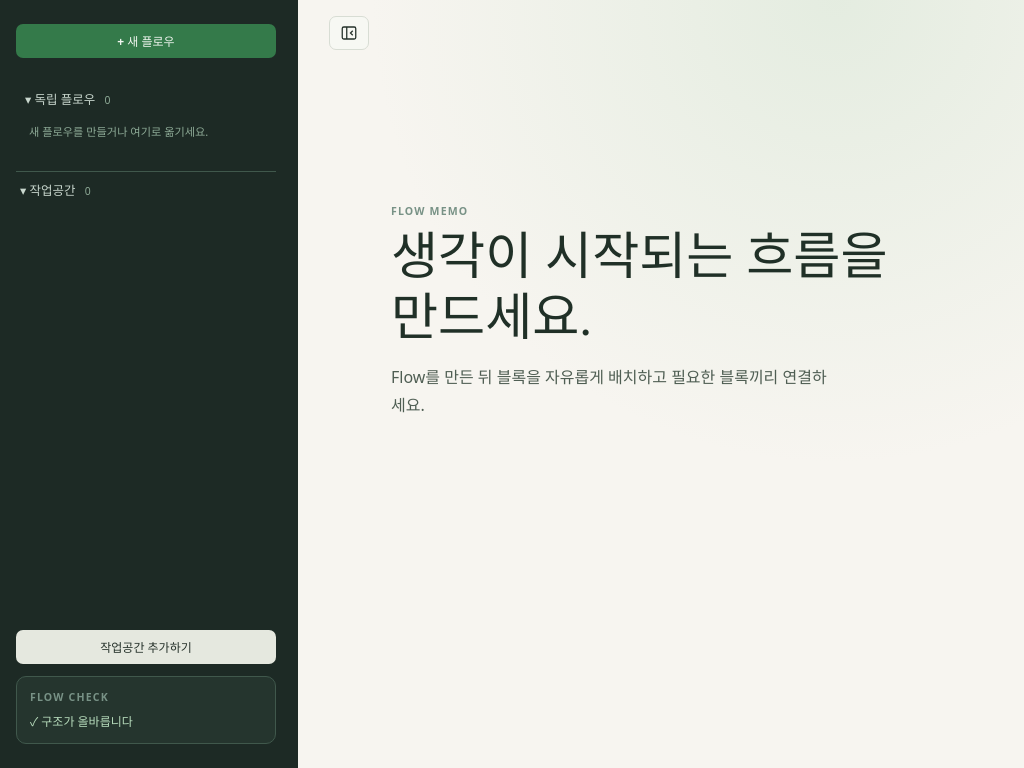
Test case: offers recent workspaces before the folder dialog and records a selected existing workspace
Click the button with class "workspace-add-button".
click(146, 647)  # box [16,630,276,664]
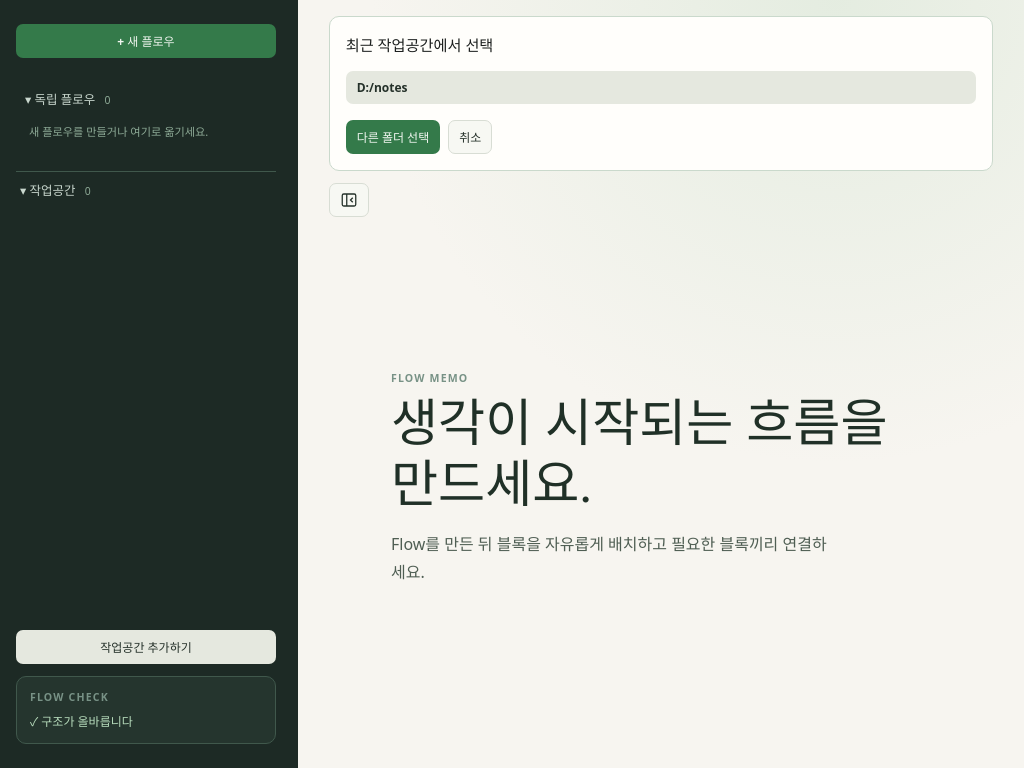
Click the button "D:/notes".
click(382, 88)  # box [346,71,976,104]
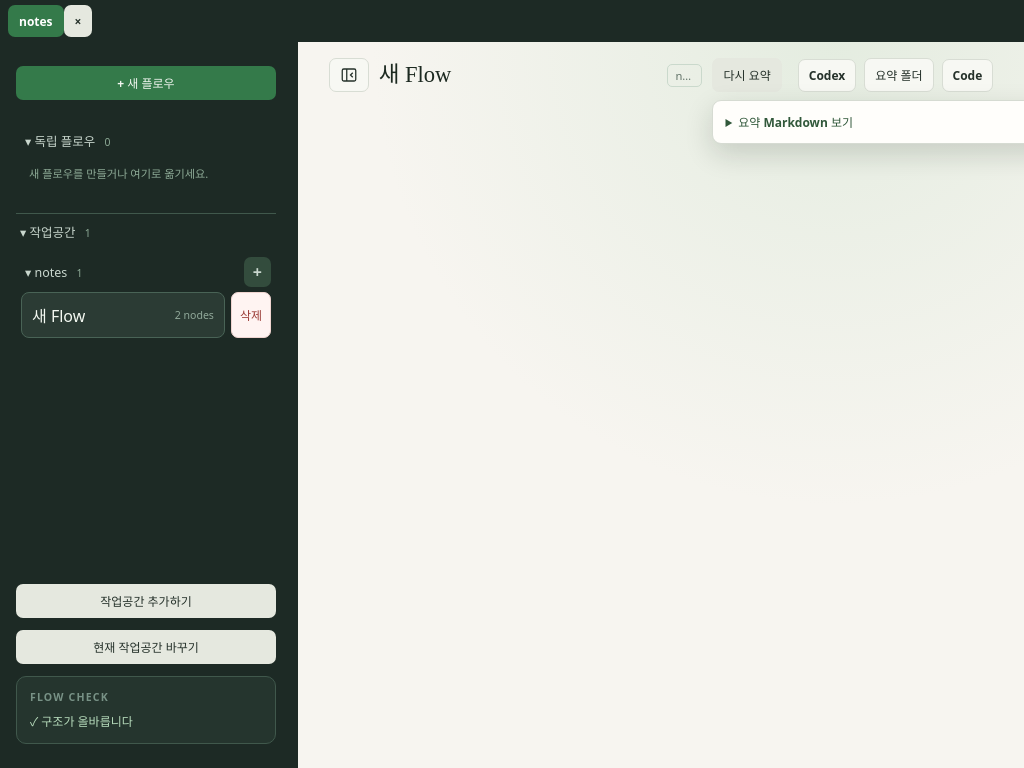
Click the button "작업공간 추가하기".
click(146, 601)  # box [16,584,276,618]
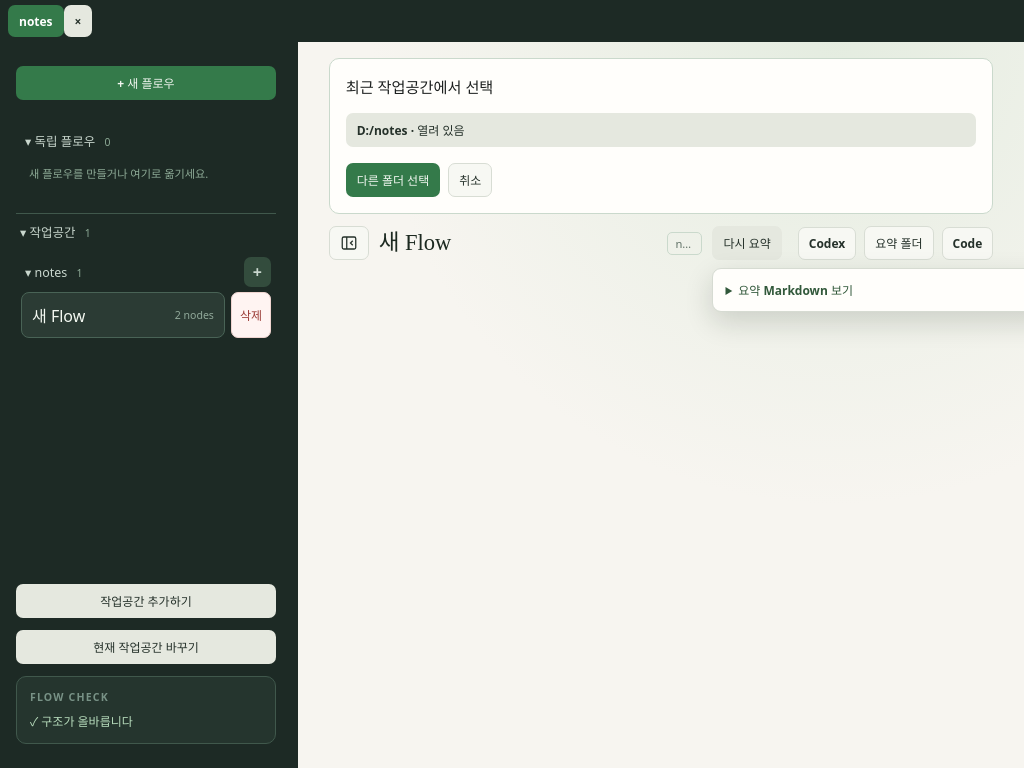
Result: the element with class "workspace-add-picker" shows "D:/notes"
Click the button "D:/notes · 열려 있음".
click(382, 130)  # box [346,113,976,147]
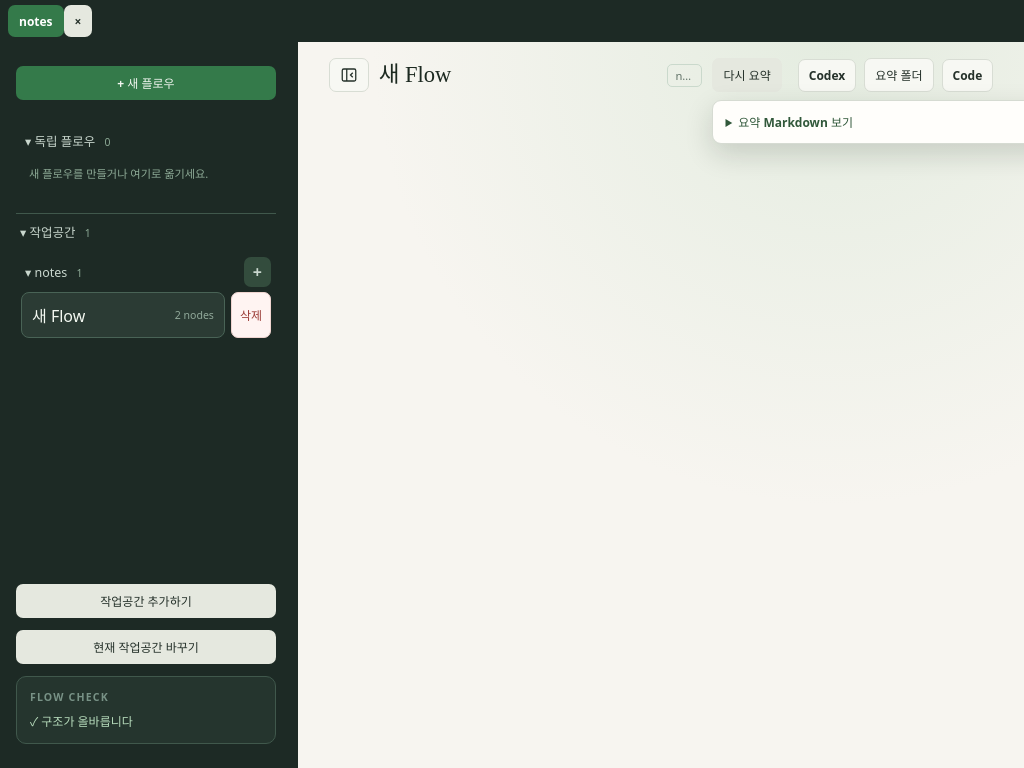
Result: the number of elements with class "workspace-tab" is 1 at [8,5,92,37]
Result: the element with class "workspace-add-picker" is gone
